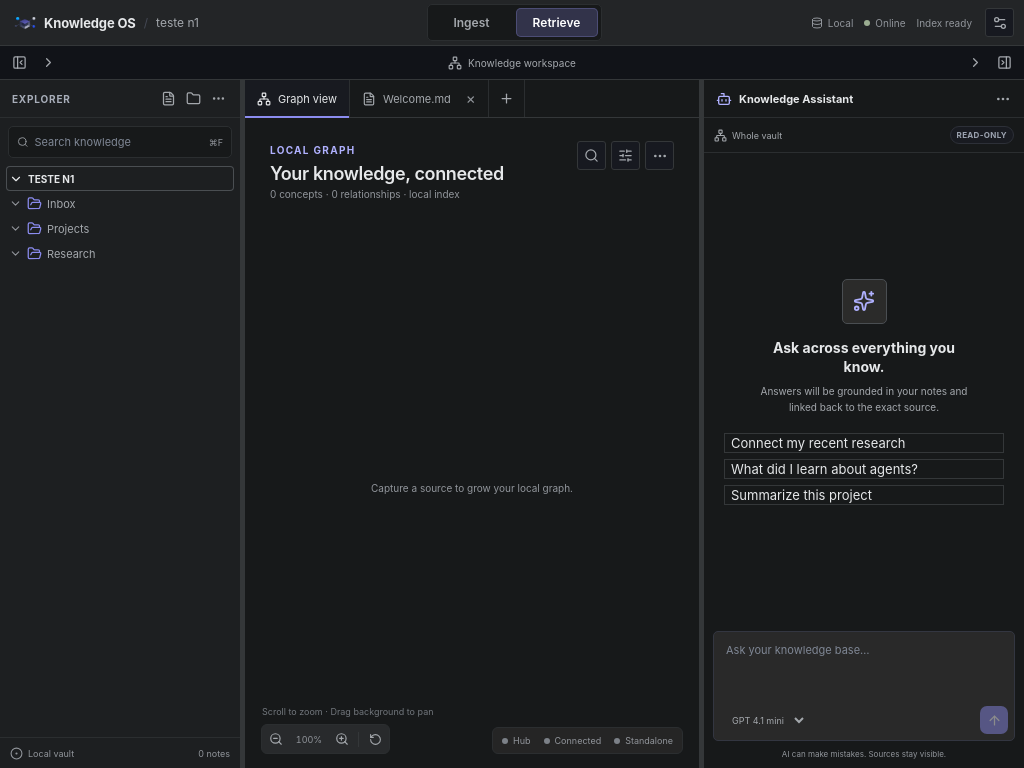
Scenario: application shell › asks the selected provider model and keeps the citation visible
The image size is (1024, 768).
Type "How does retrieval connect to transformers?" into the text box labelled "Ask your knowledge base". click: x=864, y=666
box: [714,632,1014,700]
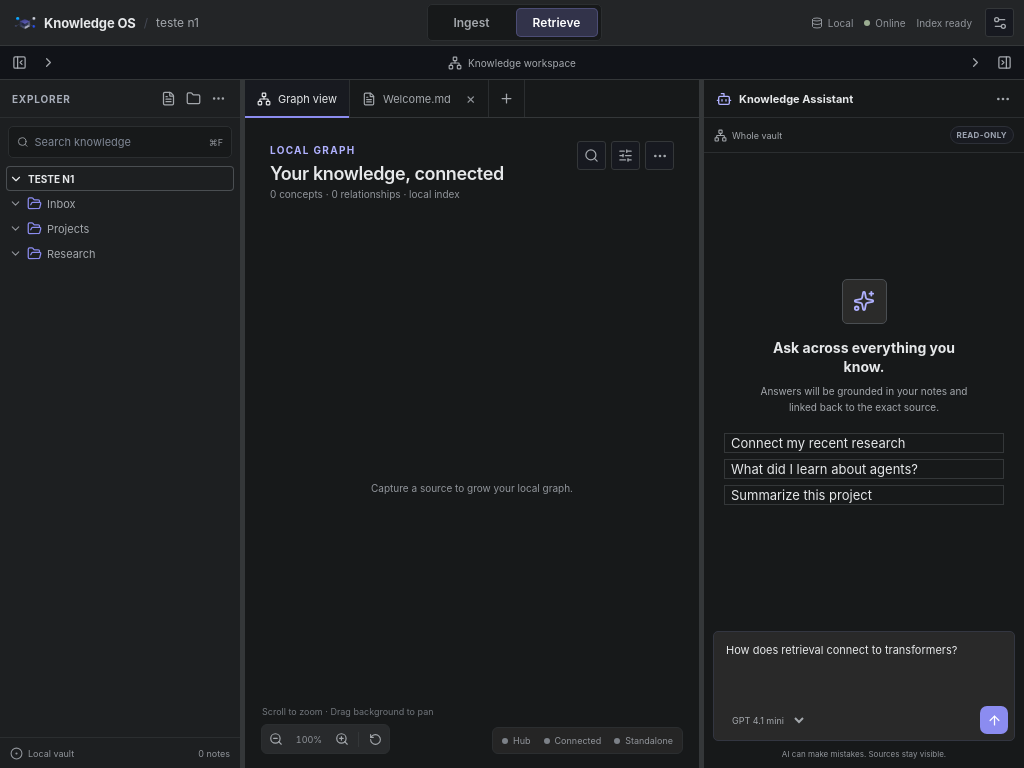
Click the button named "Send question". click: x=994, y=720
box: [980,706,1008,734]
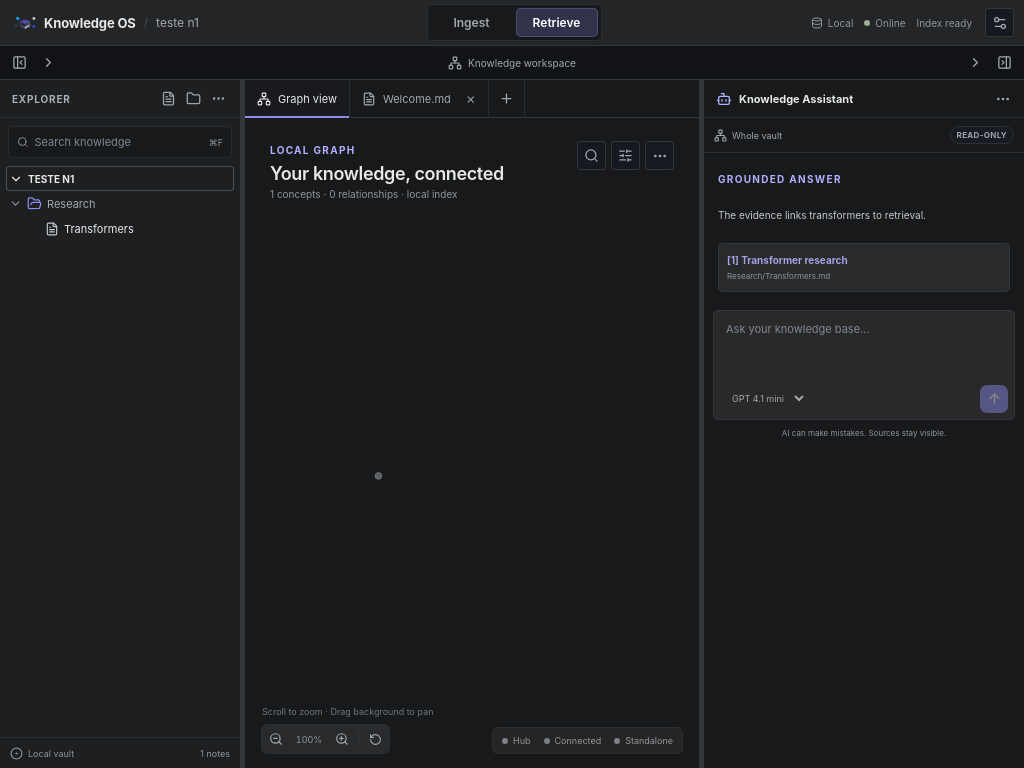
Expected: the text "The evidence links transformers to retrieval." is shown, [718,209,926,221]
Expected: the text "[1] Transformer research" is shown, [727,254,848,266]
